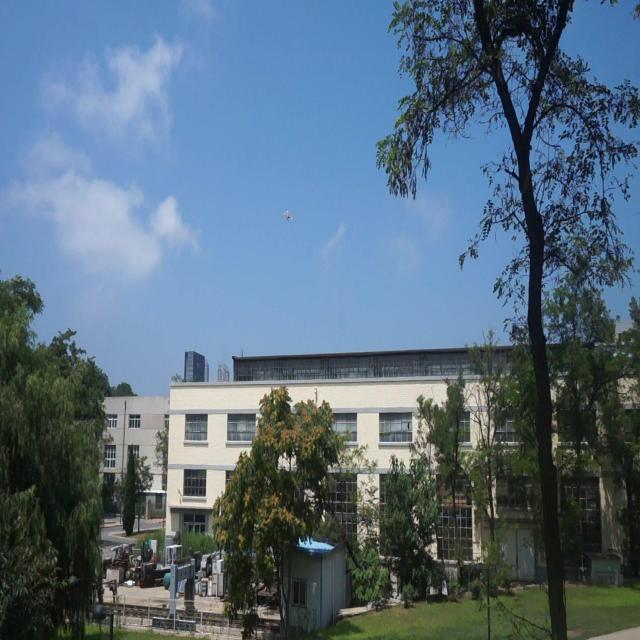UAV: (283, 210, 293, 222)
